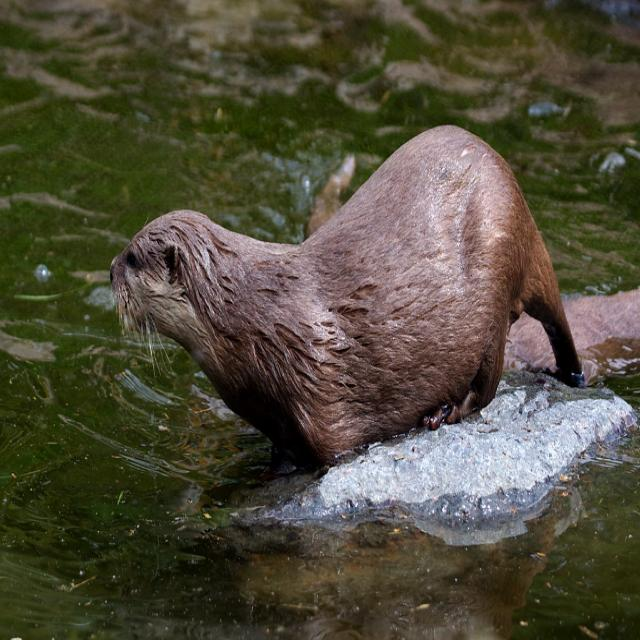otter: (111, 125, 581, 458)
